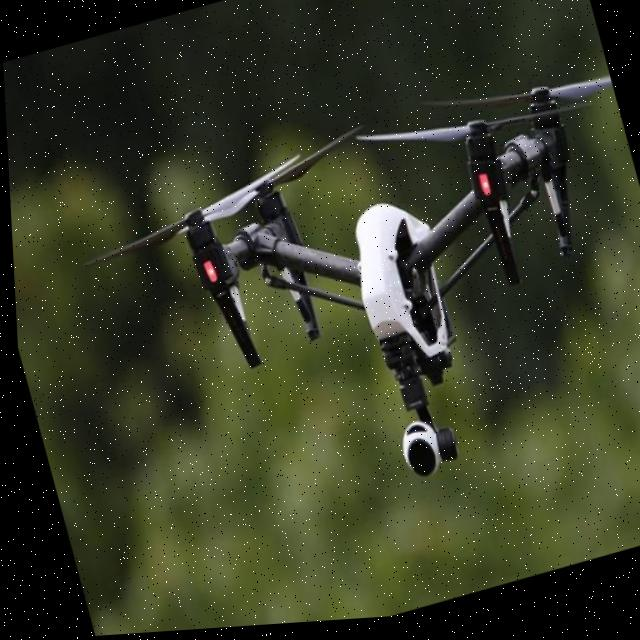drones: (27, 6, 640, 606)
